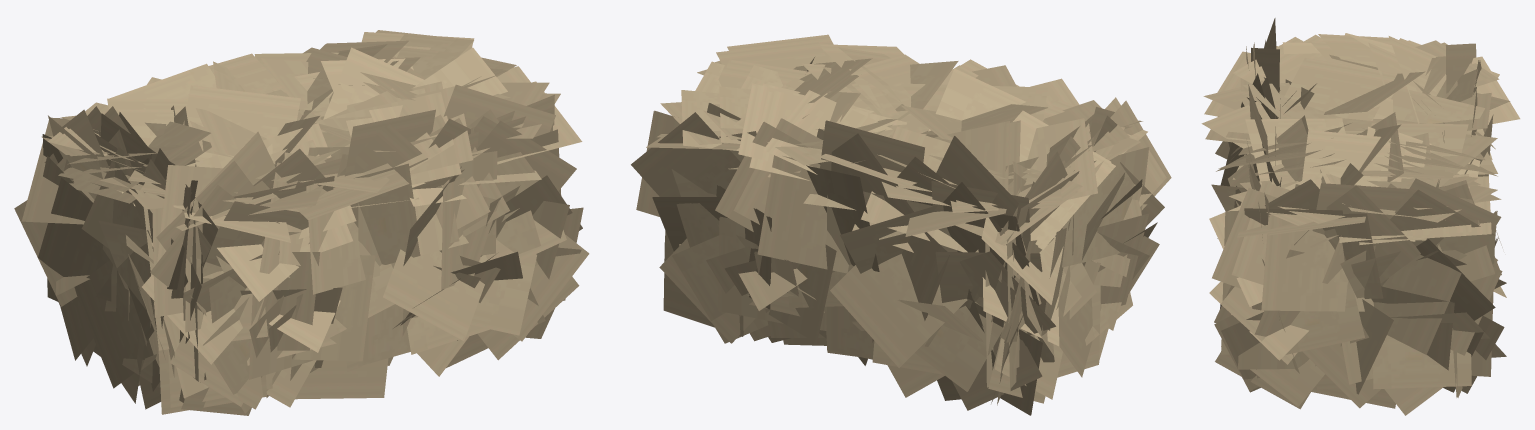
File: Haybale.glb
3 renders of one model, left to right at view 1: azimuth 30°, elevation 25°; view 2: azimuth 150°, elevation 25°; view 3: azimuth 270°, elevation 25°, orthographic. The views are drawn at different scales.
Parts seen in each view (by area): view 1: Haybale; view 2: Haybale; view 3: Haybale.
Boxes of the visible parts, <box> form: Haybale: <box>14,30,589,415</box>; Haybale: <box>631,34,1171,415</box>; Haybale: <box>1201,18,1520,415</box>.
Bounding box in the file's own units: 1.25 × 0.7646 × 0.877.
2 materials, 2 textured.
